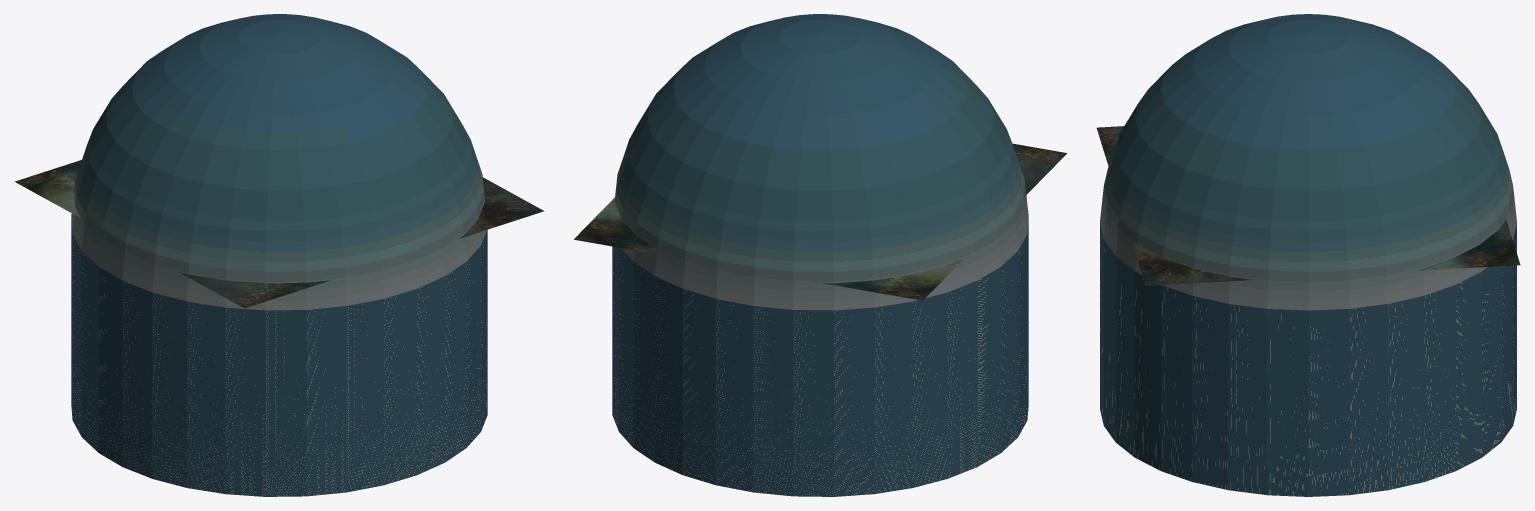
File: R_S_Fire.fbx
3 renders of one model, left to right at view 1: azimuth 30°, elevation 25°; view 2: azimuth 150°, elevation 25°; view 3: azimuth 270°, elevation 25°, orthographic.
Visible parts, largest first — view 1: Sky01, R_WaterPlane; view 2: Sky01, R_WaterPlane; view 3: Sky01, R_WaterPlane.
Part boxes in pixels (left/top/right/bottom): Sky01: left=71, top=14, right=487, bottom=496; R_WaterPlane: left=15, top=160, right=544, bottom=308; Sky01: left=612, top=14, right=1028, bottom=496; R_WaterPlane: left=574, top=143, right=1067, bottom=300; Sky01: left=1100, top=14, right=1516, bottom=496; R_WaterPlane: left=1096, top=126, right=1520, bottom=285.
Bounding box in the file's own units: 112 × 110 × 112.
2 materials, 2 textured.
